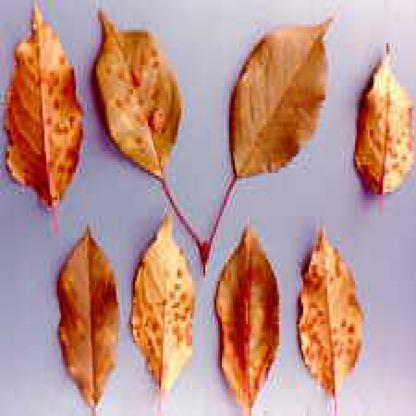apple scab leaf: (226, 11, 357, 200), (92, 14, 189, 208), (6, 8, 83, 222), (211, 211, 287, 413), (294, 208, 366, 413), (129, 216, 200, 413), (55, 227, 124, 413), (348, 43, 414, 203)
